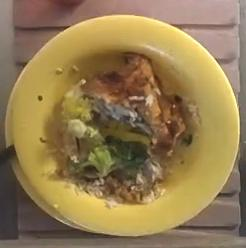chicken: (79, 53, 181, 126)
rice_mix: (69, 157, 165, 203)
vegetables: (56, 116, 153, 179)
